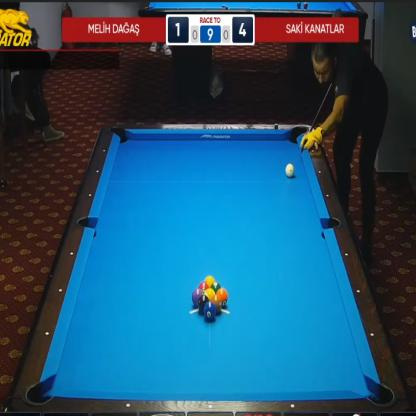Ball: (285, 164, 295, 178)
